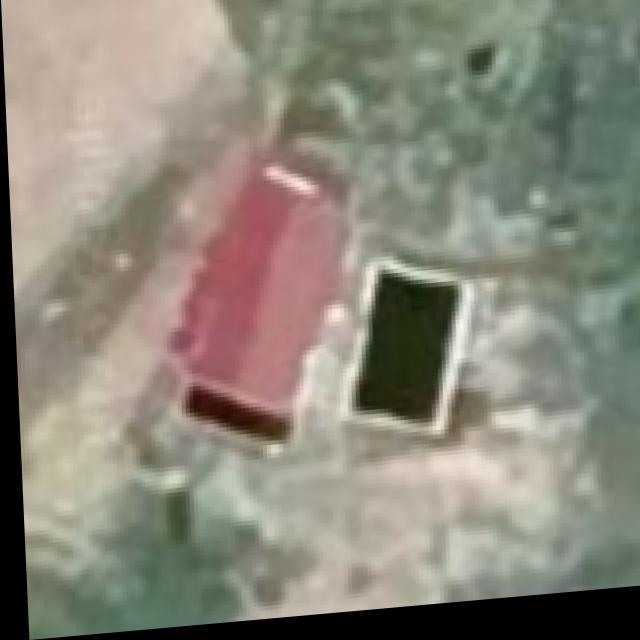Batiment: (165, 170, 338, 419), (351, 280, 452, 428)
